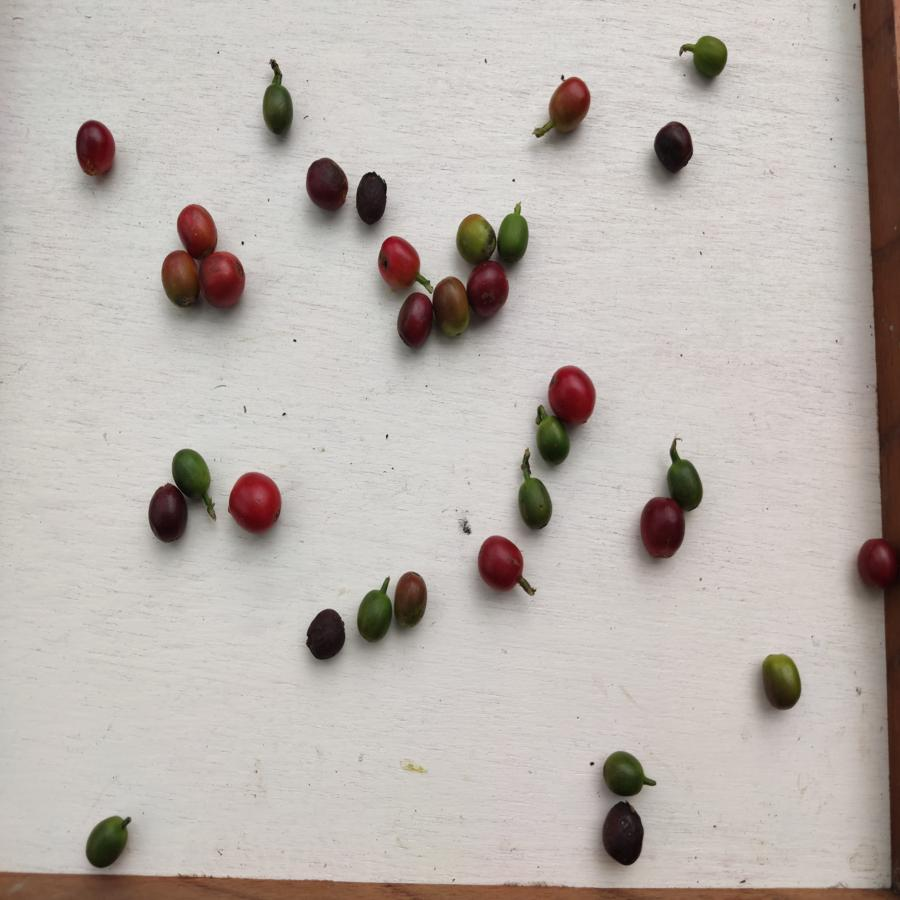Inmaduro: (81, 812, 130, 869), (597, 749, 648, 801), (257, 83, 302, 139), (355, 585, 392, 649), (515, 476, 556, 532), (173, 445, 213, 502), (667, 456, 708, 508), (496, 210, 533, 265), (688, 33, 729, 81), (533, 416, 570, 469)
Maduro: (227, 470, 289, 538), (545, 363, 601, 420), (476, 531, 523, 596), (374, 236, 425, 290), (203, 250, 249, 309), (173, 202, 221, 253)
Pinton: (543, 75, 601, 144), (755, 651, 808, 713), (157, 252, 200, 313), (393, 568, 437, 627), (433, 276, 472, 342), (453, 213, 497, 261)
Sobremaduro: (600, 798, 652, 871), (639, 495, 687, 563), (853, 532, 898, 601), (650, 116, 700, 177), (467, 260, 516, 319), (145, 483, 189, 547), (301, 604, 350, 661), (72, 121, 119, 180), (393, 293, 437, 350), (305, 157, 349, 213), (352, 166, 389, 230)
